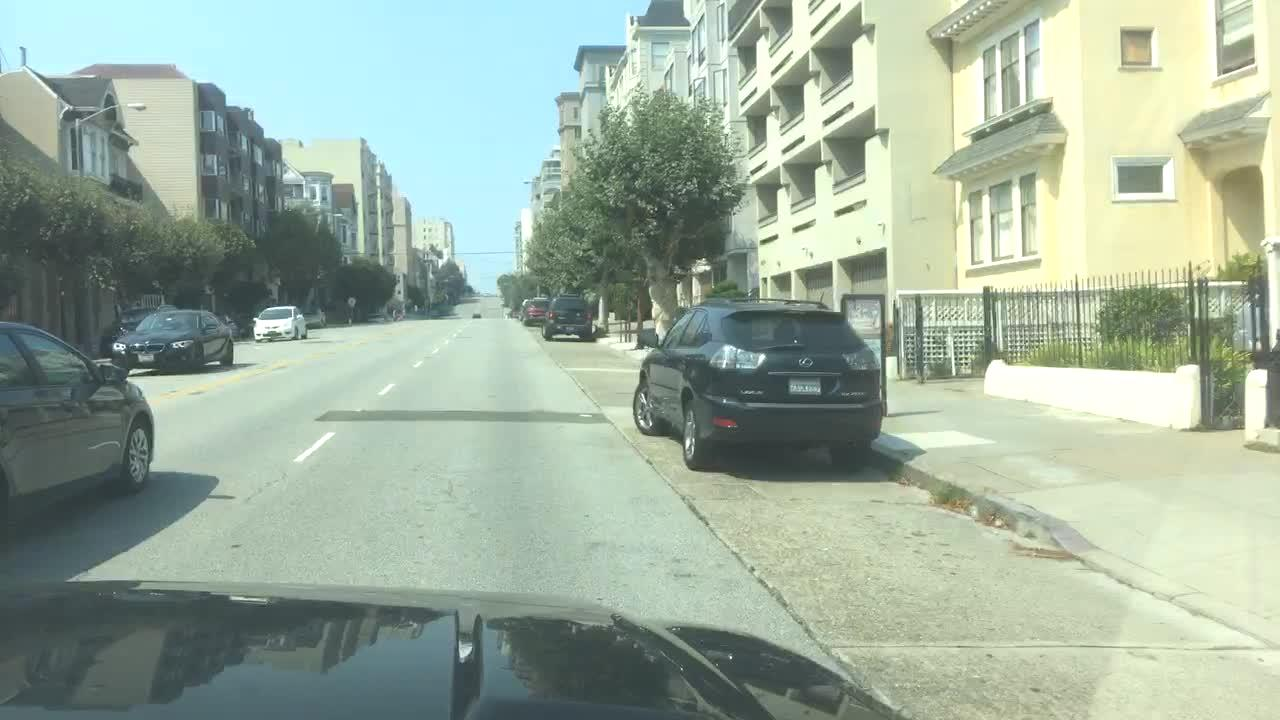lexus: (792, 350, 823, 378)
